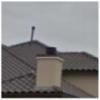chimneys: (34, 46, 66, 90), (30, 25, 36, 42)
